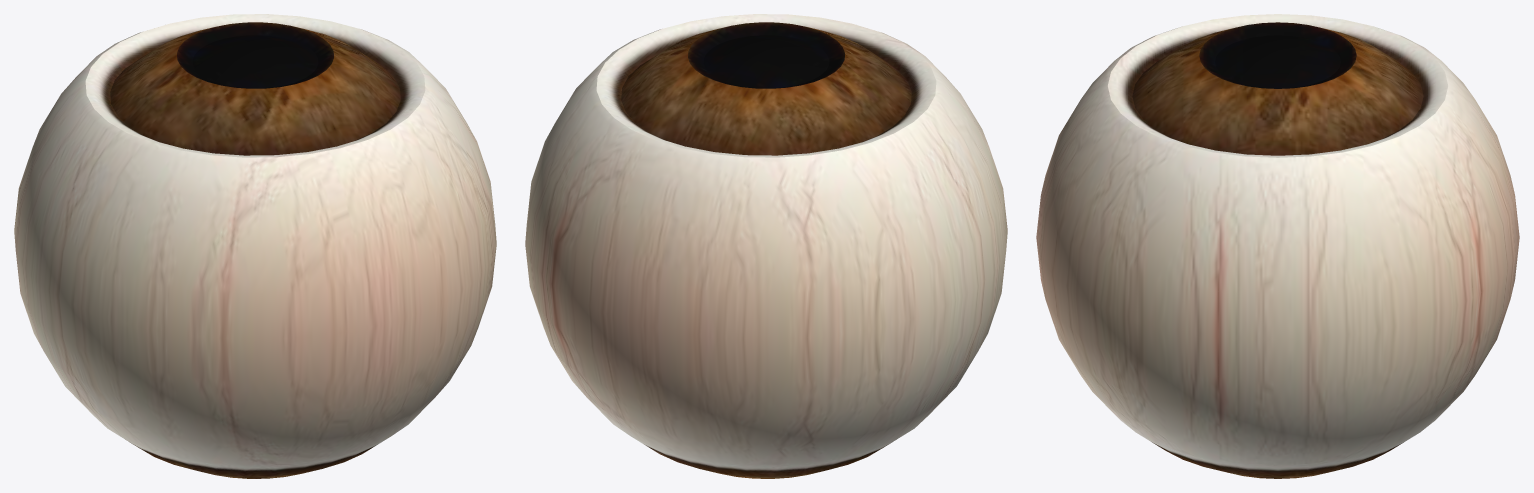
File: EyeVerTwo.fbx
The picture shows the model from 3 angles, left to right: view 1: azimuth 30°, elevation 25°; view 2: azimuth 150°, elevation 25°; view 3: azimuth 270°, elevation 25°; orthographic projection.
Parts seen in each view (by area): view 1: Sphere; view 2: Sphere; view 3: Sphere.
Boxes of the visible parts, <box> form: Sphere: <box>14,14,496,478</box>; Sphere: <box>525,14,1007,478</box>; Sphere: <box>1036,14,1519,478</box>.
Size of the model in its own units: 200 by 185 by 200.
Materials: 1 (1 with a texture image).
